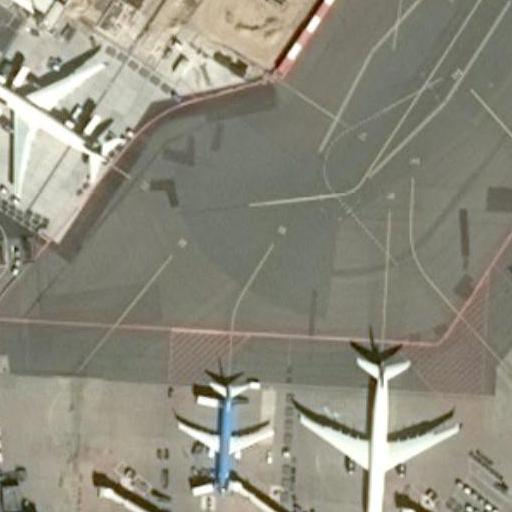Aircraft: (297, 340, 453, 512), (167, 369, 279, 499)
